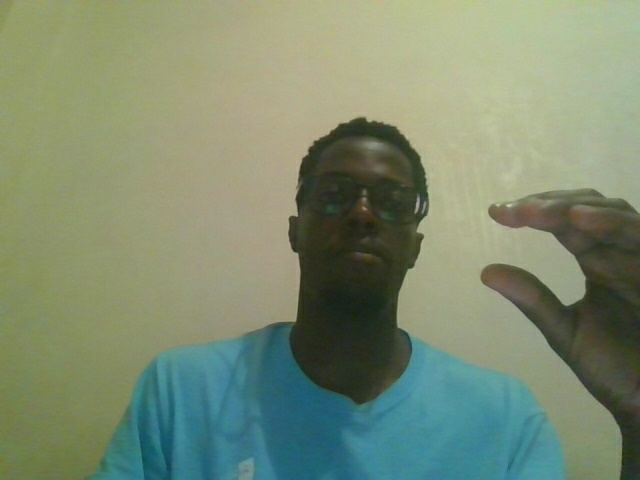No: (476, 182, 640, 421)
